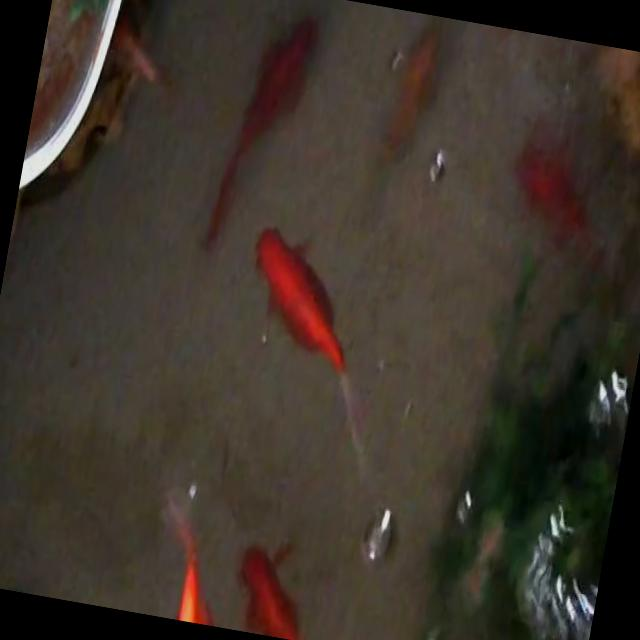fish: (220, 223, 406, 467), (201, 0, 322, 258), (140, 480, 258, 630), (502, 128, 610, 254), (227, 534, 347, 640), (373, 20, 444, 168), (103, 7, 178, 90)
